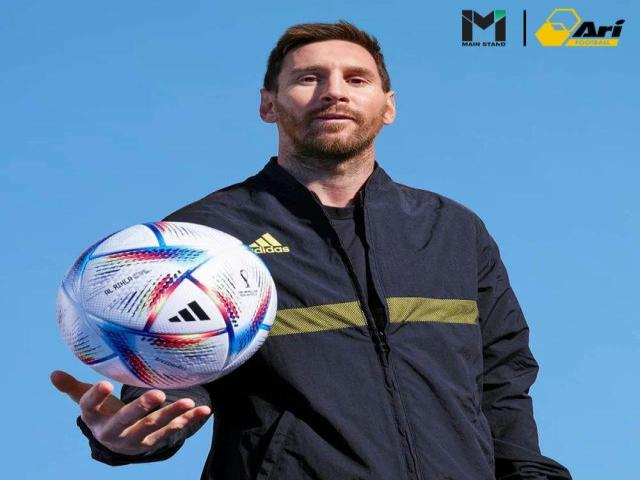round ball: (56, 221, 278, 389)
